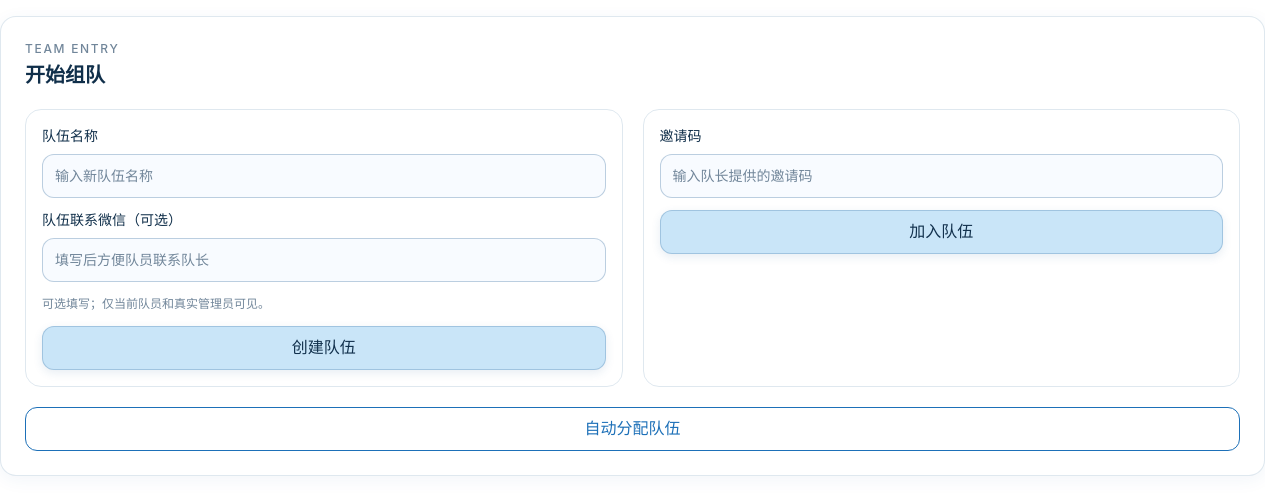
Test: independent team UI › joins a team directly with an invite code
Type " JOIN-CODE " into the field labelled "邀请码" at (941, 176), box [660,154,1223,198]
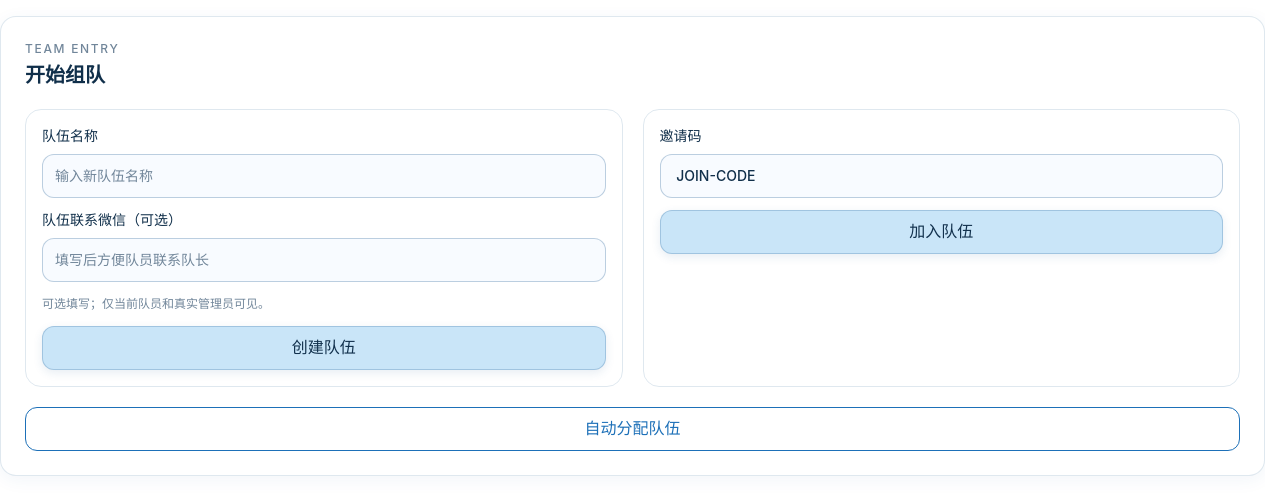
Click the button "加入队伍" at (941, 232), box [660,210,1223,254]
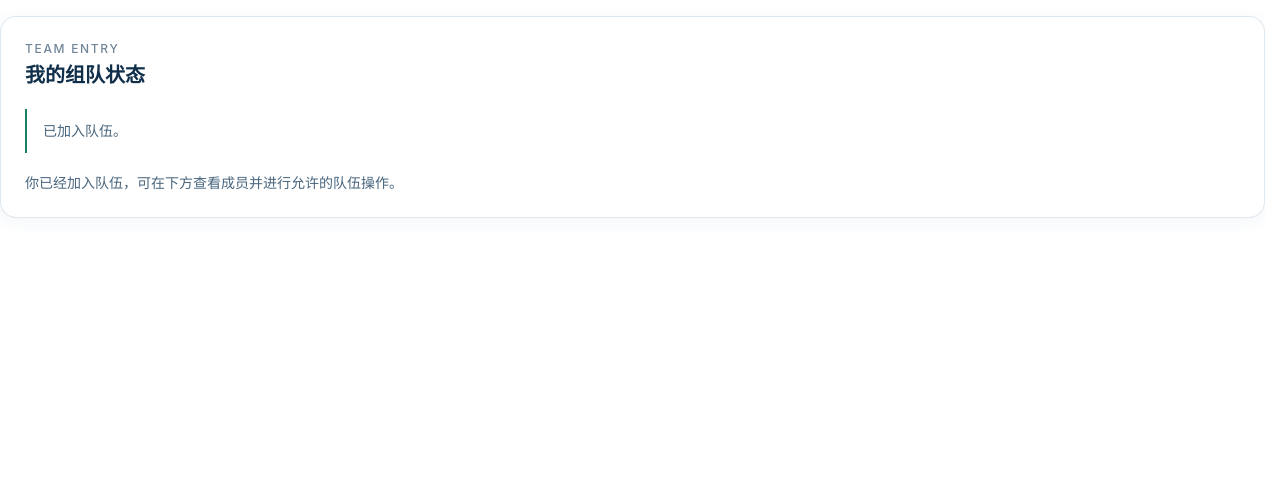
Check: the text "已加入队伍。" is shown, box [25,109,1240,153]
